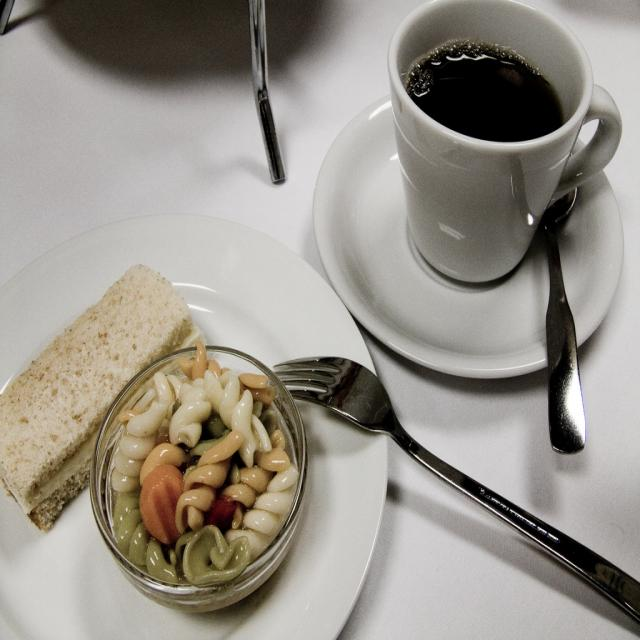non-organic waste: (2, 205, 388, 640), (312, 105, 625, 372)
